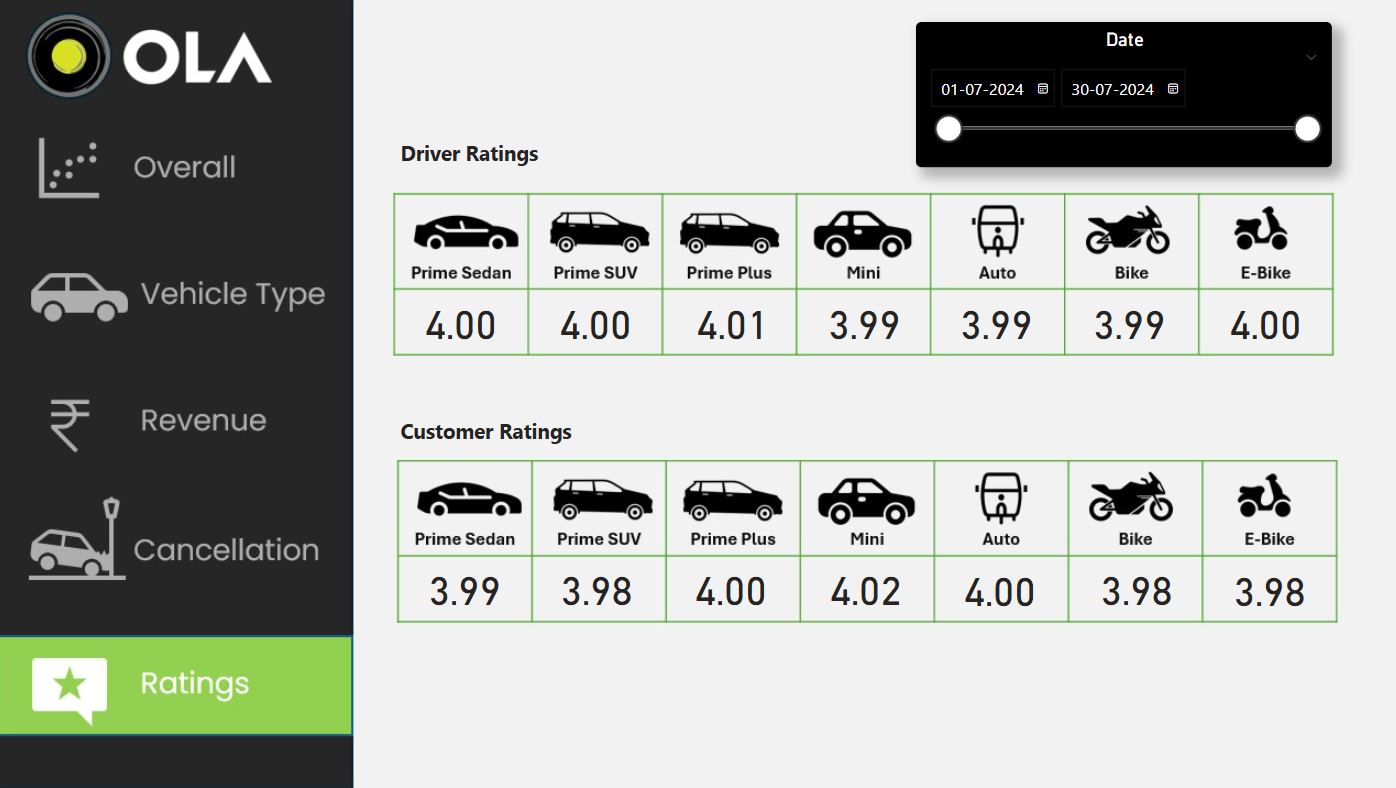

What the dashboard file says about the page in this screenshot:
{"tool":"powerbi","page":{"name":"Ratings","canvas":[1280,720],"ordinal":4},"visuals":[{"type":"actionButton","box":[0,221.3,324.4,96],"z":0},{"type":"actionButton","box":[0,335.1,324.4,96],"z":1000},{"type":"actionButton","box":[0,447.1,324.4,96],"z":2000},{"type":"actionButton","box":[0,578.7,324.4,96],"z":3000},{"type":"actionButton","box":[0,104.9,324.4,96],"z":4000},{"type":"card","fields":{"Values":["Avg(July.Driver_Ratings)"]},"box":[365.6,268.9,112.2,47.8],"z":5000},{"type":"card","fields":{"Values":["Avg(July.Driver_Ratings)"]},"box":[488.9,268.9,110,47.8],"z":6000},{"type":"card","fields":{"Values":["Avg(July.Driver_Ratings)"]},"box":[613.3,268.9,110,47.8],"z":7000},{"type":"card","fields":{"Values":["Avg(July.Driver_Ratings)"]},"box":[733.3,268.9,110,47.8],"z":8000},{"type":"card","fields":{"Values":["Avg(July.Driver_Ratings)"]},"box":[853.3,268.9,110,47.8],"z":9000},{"type":"card","fields":{"Values":["Avg(July.Driver_Ratings)"]},"box":[974.4,268.9,110,47.8],"z":10000},{"type":"card","fields":{"Values":["Avg(July.Driver_Ratings)"]},"box":[1097.8,268.9,110,47.8],"z":11000},{"type":"textbox","box":[362.2,122.2,150,41.1],"z":12000},{"type":"textbox","box":[362.2,374.4,182.2,41.1],"z":13000},{"type":"card","fields":{"Values":["Avg(July.Customer_Rating)"]},"box":[368.9,511.1,112.2,47.8],"z":14000},{"type":"card","fields":{"Values":["Avg(July.Customer_Rating)"]},"box":[488.9,511.1,112.2,47.8],"z":15000},{"type":"card","fields":{"Values":["Avg(July.Customer_Rating)"]},"box":[611.1,511.1,112.2,47.8],"z":16000},{"type":"card","fields":{"Values":["Avg(July.Customer_Rating)"]},"box":[733.3,511.1,112.2,47.8],"z":17000},{"type":"card","fields":{"Values":["Avg(July.Customer_Rating)"]},"box":[855.6,512.2,112.2,47.8],"z":18000},{"type":"card","fields":{"Values":["Avg(July.Customer_Rating)"]},"box":[980,511.1,112.2,47.8],"z":19000},{"type":"card","fields":{"Values":["Avg(July.Customer_Rating)"]},"box":[1101.1,512.2,112.2,47.8],"z":20000},{"type":"slicer","title":"Date","fields":{"Values":["July.Date"]},"box":[835.6,21.1,377.8,132.2],"z":21000}]}

Visuals, with their boxes in screenshot pixels (x1, y1, x2, y2), scaled from the page's 1280x720 canvas onto the 1396x788 screenshot:
actionButton: [x1=0, y1=242, x2=354, y2=347]
actionButton: [x1=0, y1=367, x2=354, y2=472]
actionButton: [x1=0, y1=489, x2=354, y2=594]
actionButton: [x1=0, y1=633, x2=354, y2=738]
actionButton: [x1=0, y1=115, x2=354, y2=220]
card - Avg(July.Driver_Ratings): [x1=399, y1=294, x2=521, y2=347]
card - Avg(July.Driver_Ratings): [x1=533, y1=294, x2=653, y2=347]
card - Avg(July.Driver_Ratings): [x1=669, y1=294, x2=789, y2=347]
card - Avg(July.Driver_Ratings): [x1=800, y1=294, x2=920, y2=347]
card - Avg(July.Driver_Ratings): [x1=931, y1=294, x2=1051, y2=347]
card - Avg(July.Driver_Ratings): [x1=1063, y1=294, x2=1183, y2=347]
card - Avg(July.Driver_Ratings): [x1=1197, y1=294, x2=1317, y2=347]
textbox: [x1=395, y1=134, x2=559, y2=179]
textbox: [x1=395, y1=410, x2=594, y2=455]
card - Avg(July.Customer_Rating): [x1=402, y1=559, x2=525, y2=612]
card - Avg(July.Customer_Rating): [x1=533, y1=559, x2=656, y2=612]
card - Avg(July.Customer_Rating): [x1=666, y1=559, x2=789, y2=612]
card - Avg(July.Customer_Rating): [x1=800, y1=559, x2=922, y2=612]
card - Avg(July.Customer_Rating): [x1=933, y1=561, x2=1056, y2=613]
card - Avg(July.Customer_Rating): [x1=1069, y1=559, x2=1191, y2=612]
card - Avg(July.Customer_Rating): [x1=1201, y1=561, x2=1323, y2=613]
"Date" slicer: [x1=911, y1=23, x2=1323, y2=168]
